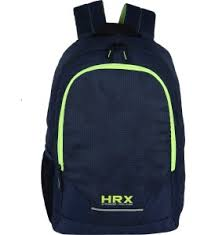backpack: (40, 0, 186, 234)
